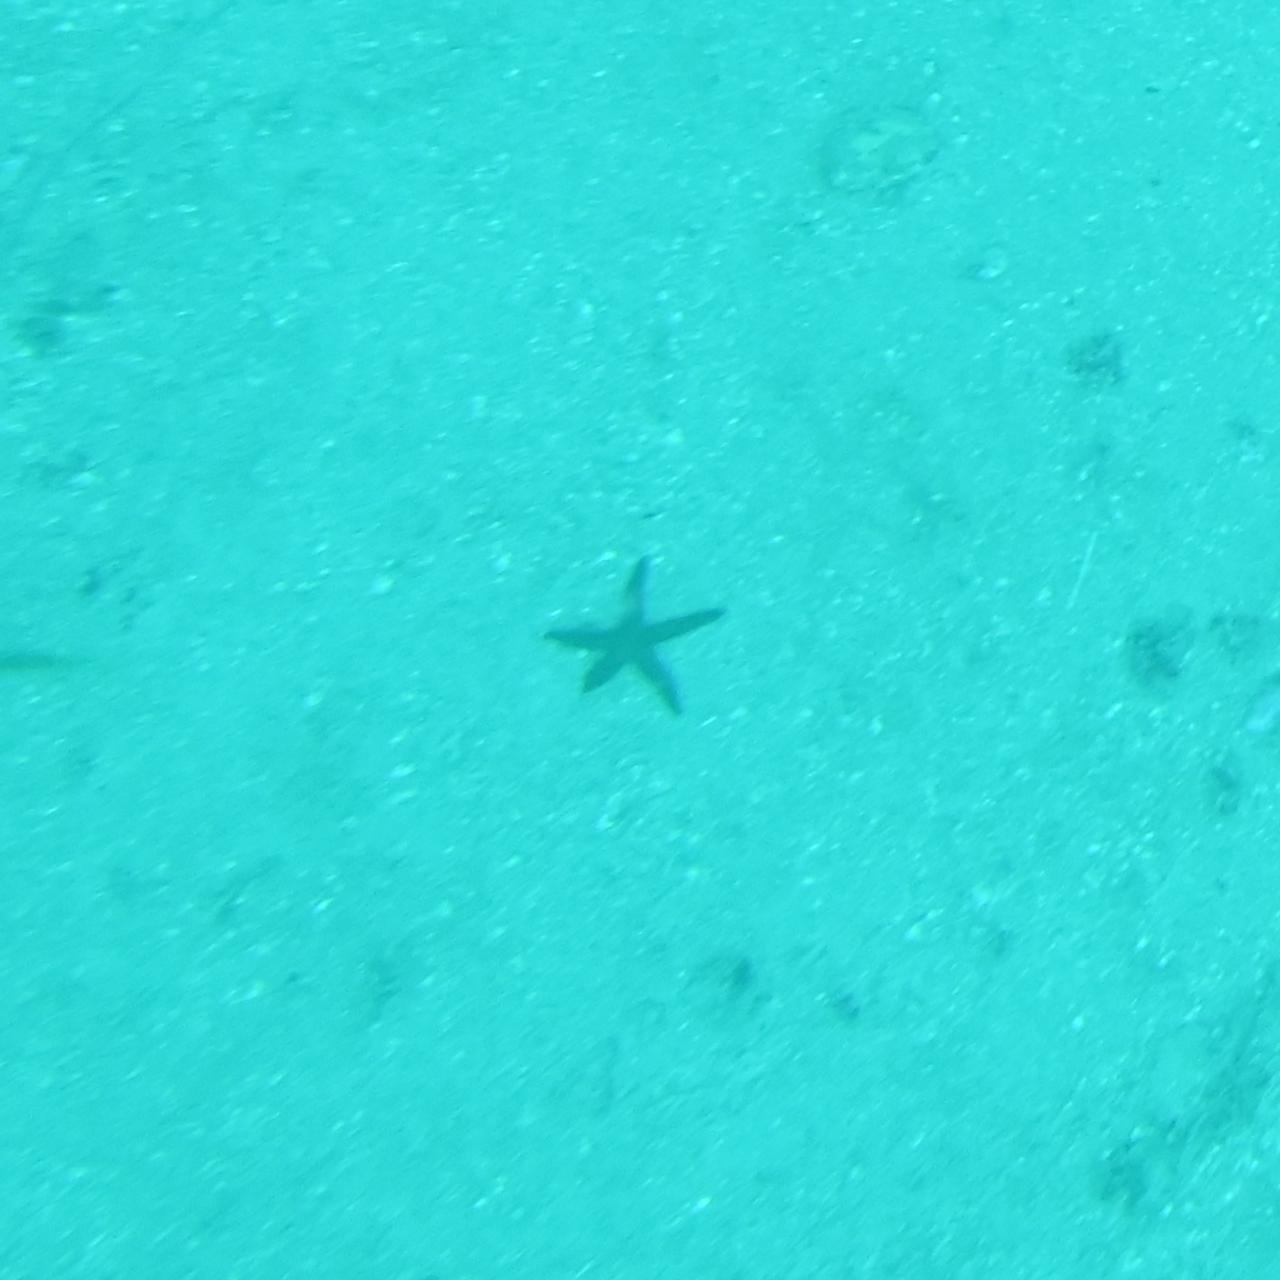Asteroidea: (537, 557, 743, 723)
